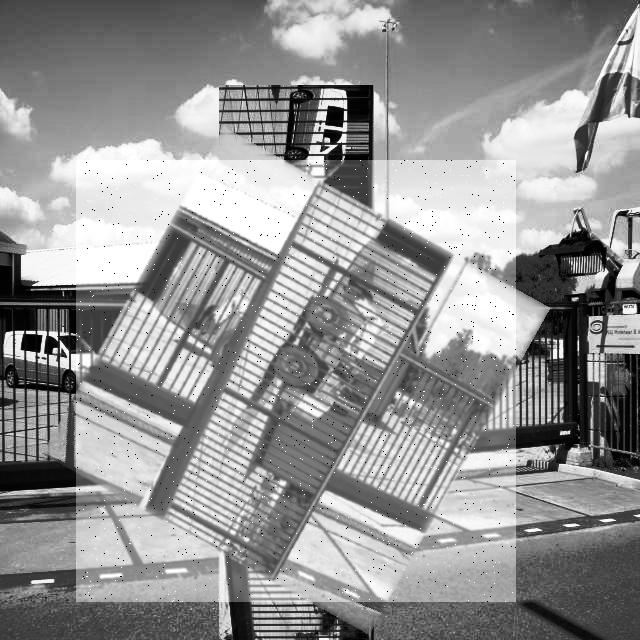fences: (76, 160, 516, 602)
